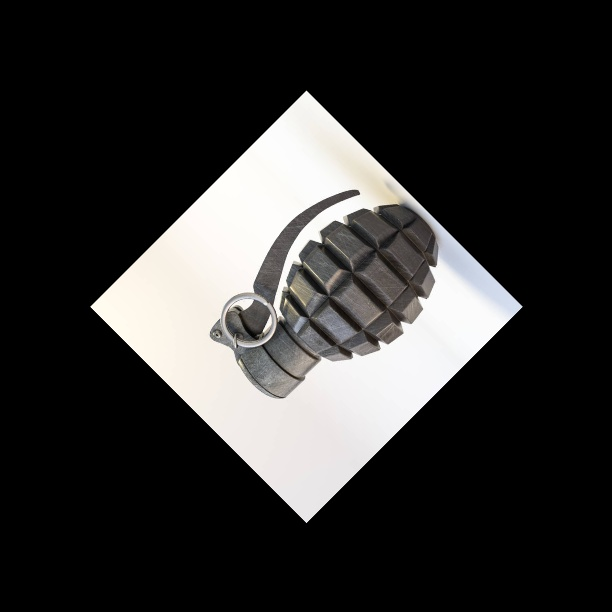e1: (210, 188, 441, 401)
